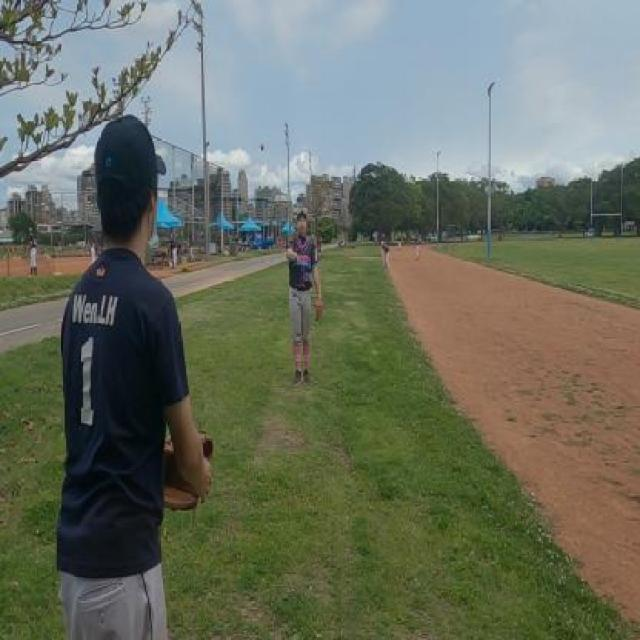baseball: (258, 142, 264, 152)
